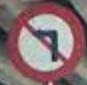Cam re: (6, 3, 86, 80)
